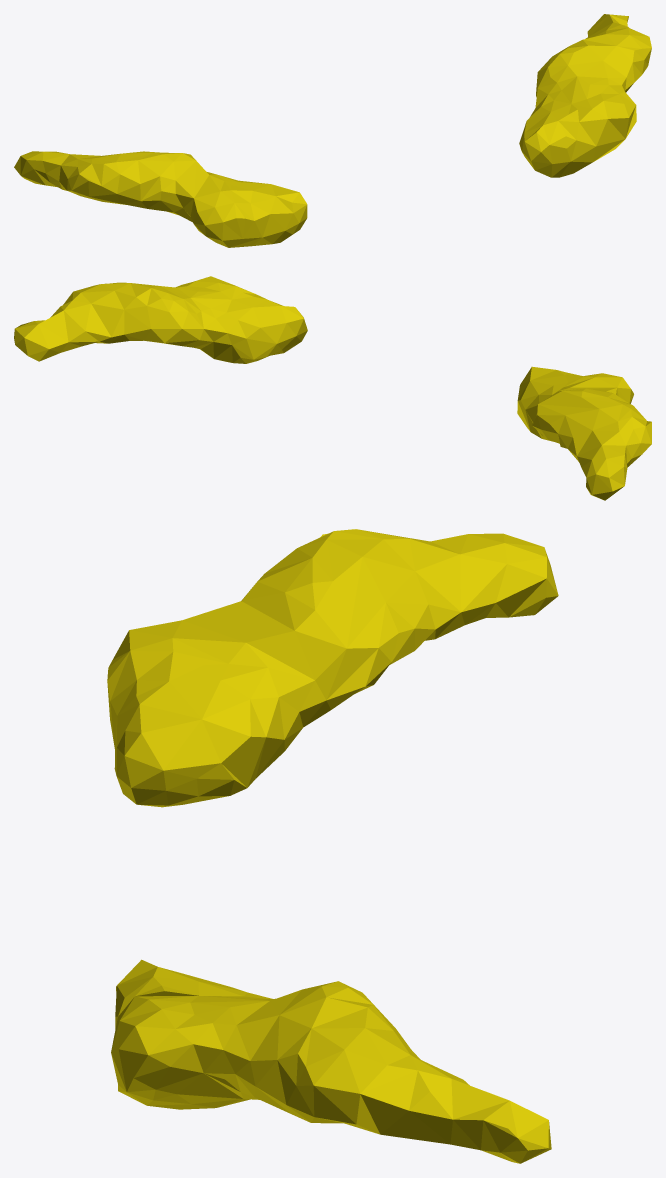
File: 239-B-basal nucleus (Meynert)-('1.0000', '0.9216', '0.0000').obj
The picture shows the model from 3 angles, top to bottom: view 1: azimuth 30°, elevation 25°; view 2: azimuth 150°, elevation 25°; view 3: azimuth 270°, elevation 25°; orthographic projection. The views are drawn at different scales.
Bounding box in the file's own units: 146 × 18.16 × 46.75.
